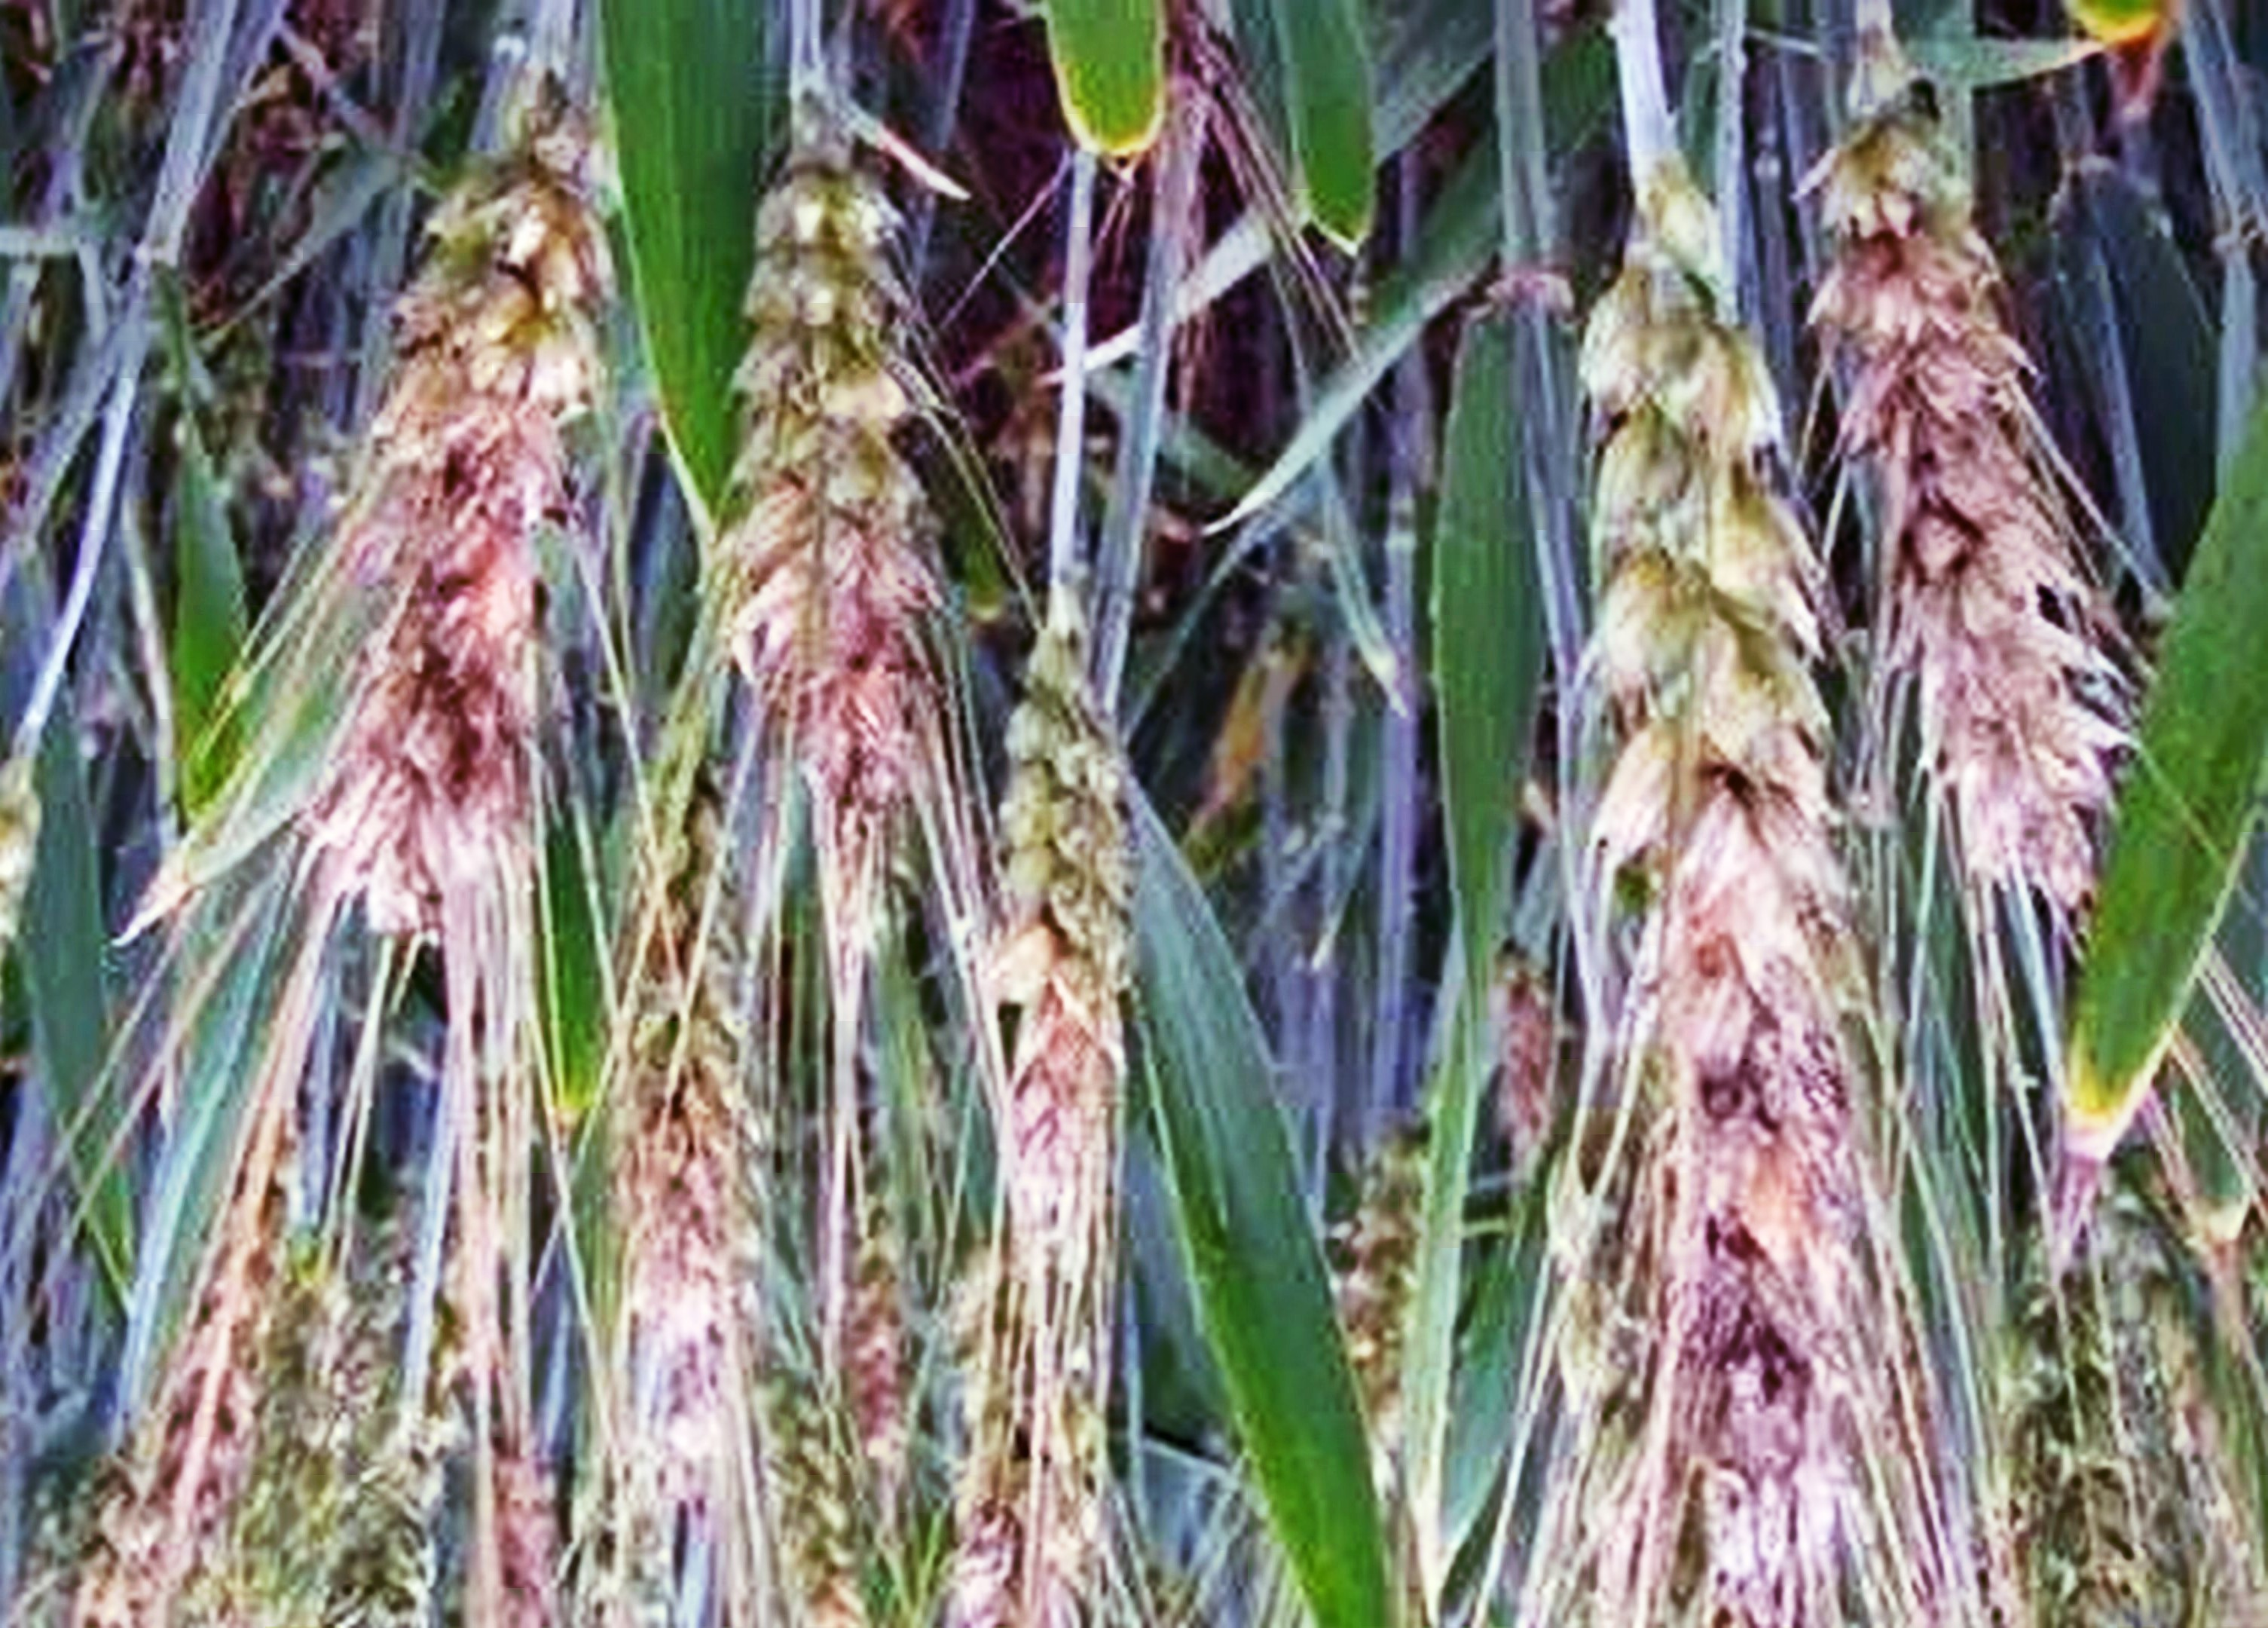Wheat scab: (1506, 171, 1824, 1173), (292, 136, 595, 907), (706, 148, 968, 860), (983, 631, 1166, 1233)
